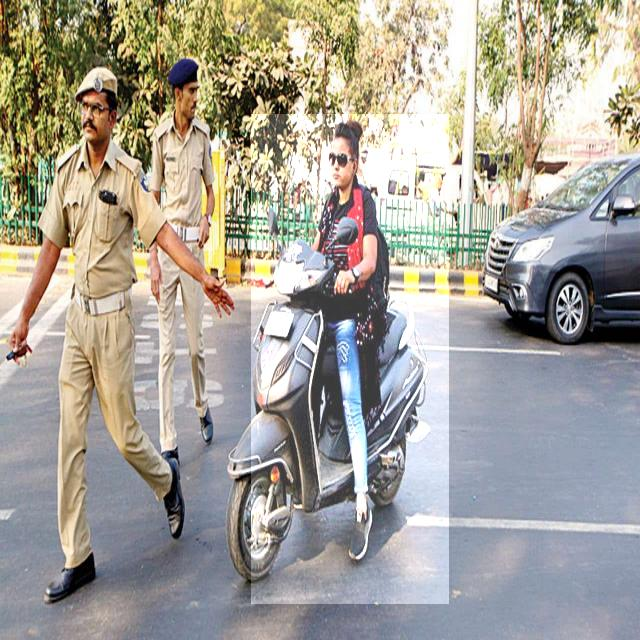No_Helmet: (252, 115, 449, 604)
